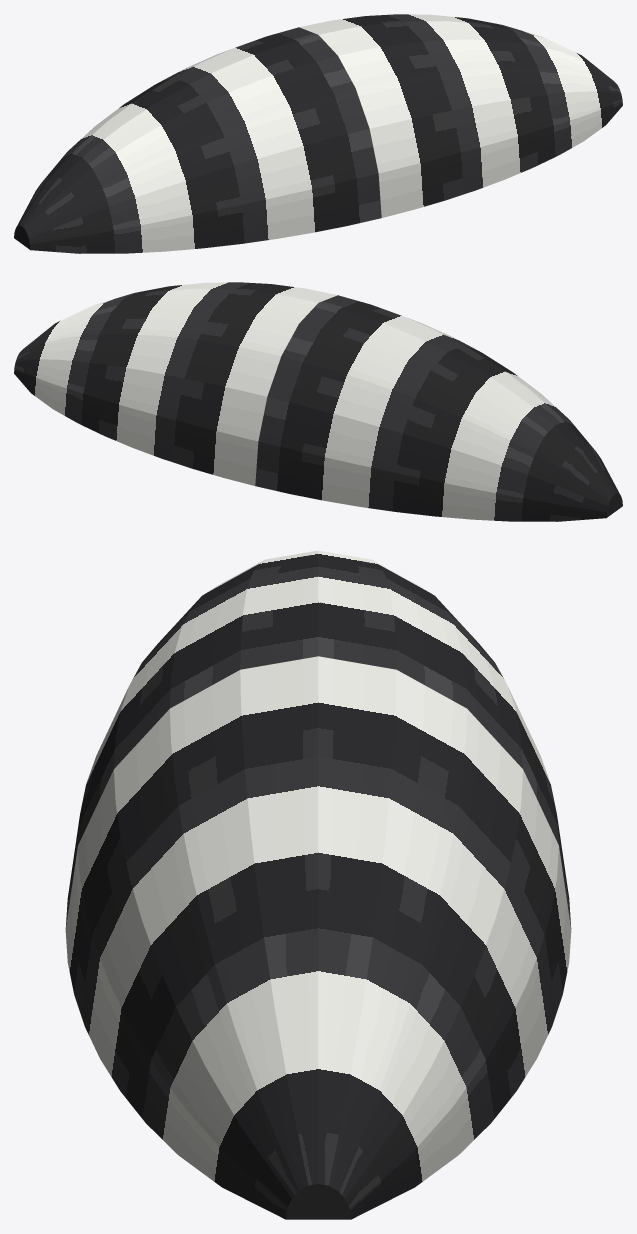
Rendered from workzone_zebra_delineator.obj.
3 renders of one model, top to bottom at view 1: azimuth 30°, elevation 25°; view 2: azimuth 150°, elevation 25°; view 3: azimuth 270°, elevation 25°, orthographic. The views are drawn at different scales.
Visible parts, largest first — view 1: workzone_zebra_delineator; view 2: workzone_zebra_delineator; view 3: workzone_zebra_delineator.
Boxes of the visible parts, x1,y1,x2,y2 form: workzone_zebra_delineator: [14, 14, 622, 253]; workzone_zebra_delineator: [14, 282, 622, 521]; workzone_zebra_delineator: [65, 550, 571, 1219].
Bounding box in the file's own units: 0.8625 × 0.1906 × 0.3188.
